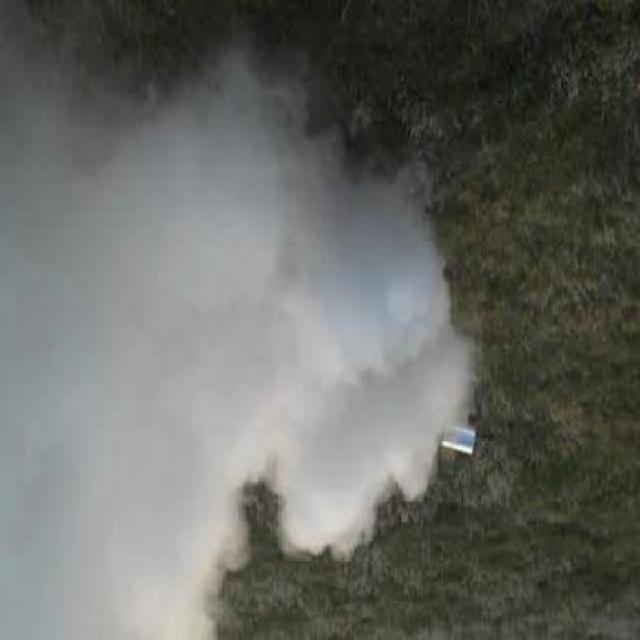Smoke: (5, 0, 472, 640)
